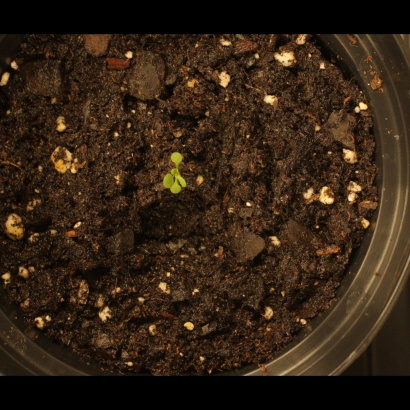leaf: (166, 145, 189, 168), (152, 171, 175, 194), (165, 182, 188, 205), (178, 168, 201, 191)
